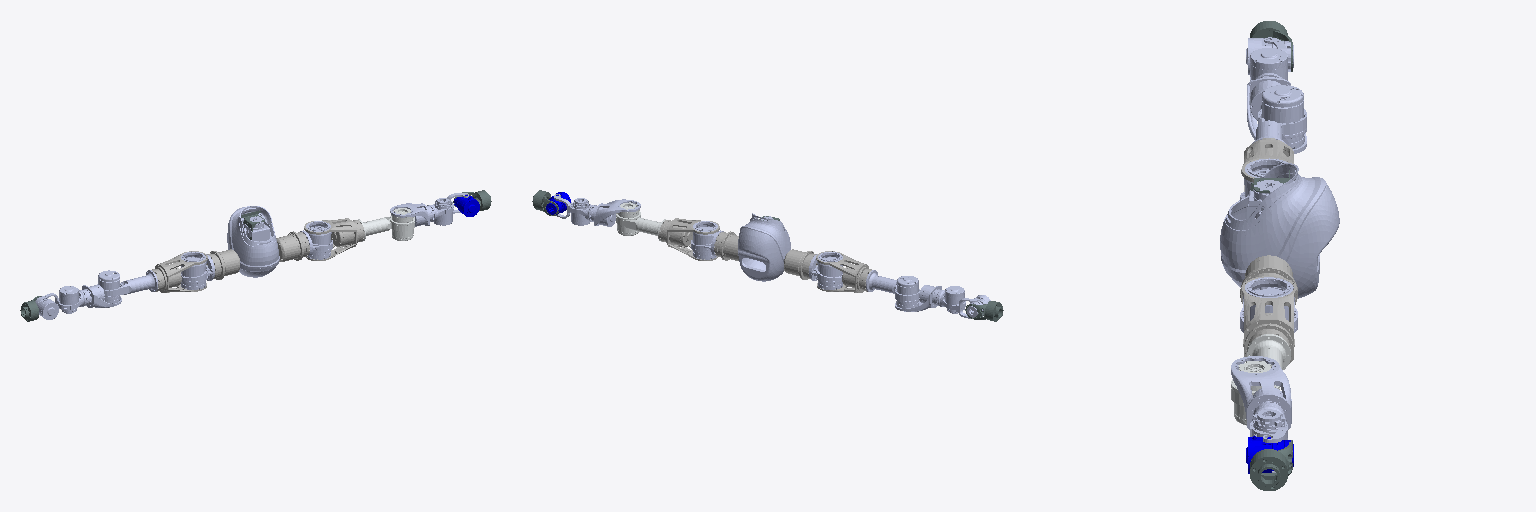
--- Facts derived from the render (not from the file) ---
The picture shows the robot from 3 angles, left to right: view 1: azimuth 30°, elevation 25°; view 2: azimuth 150°, elevation 25°; view 3: azimuth 270°, elevation 25°; orthographic projection.
Robot: double_arm — 19 links, 18 joints (14 revolute, 4 fixed); root link base_link; default pose: every joint at zero.
Links seen in each view (by area): view 1: neck_roll_link, right_arm_link3, left_arm_link2, left_arm_link3, right_arm_link2, right_arm_link1, left_arm_link1, left_arm_link0, right_arm_link5, right_arm_link0, left_arm_link5, left_arm_link4; view 2: neck_roll_link, right_arm_link3, left_arm_link2, right_arm_link2, right_arm_link1, left_arm_link3, left_arm_link1, left_arm_link4, right_arm_link5, right_arm_link0, left_arm_link5, left_arm_link0 (+1 smaller); view 3: neck_roll_link, right_arm_link3, left_arm_link4, left_arm_link2, left_arm_link3, left_arm_link7, right_arm_link5, left_arm_link1, left_arm_link5, right_arm_link2, right_arm_link4, left_arm_link0 (+3 smaller).
Link boxes in pixels (x1,y1,x2,y2): neck_roll_link: (227, 206, 279, 277); right_arm_link3: (97, 270, 157, 303); left_arm_link2: (304, 218, 364, 260); left_arm_link3: (358, 208, 414, 241); right_arm_link2: (152, 251, 207, 292); right_arm_link1: (181, 252, 214, 289); left_arm_link1: (300, 221, 332, 259); left_arm_link0: (276, 231, 309, 261); right_arm_link5: (43, 286, 85, 313); right_arm_link0: (206, 249, 239, 279); left_arm_link5: (427, 193, 468, 225); left_arm_link4: (390, 203, 433, 226); neck_roll_link: (738, 213, 790, 281); right_arm_link3: (866, 270, 919, 308); left_arm_link2: (659, 218, 719, 260); right_arm_link2: (816, 251, 871, 292); right_arm_link1: (809, 252, 842, 289); left_arm_link3: (616, 202, 665, 241); left_arm_link1: (691, 221, 723, 259); left_arm_link4: (590, 199, 640, 226); right_arm_link5: (938, 286, 980, 318); right_arm_link0: (784, 249, 817, 279); left_arm_link5: (554, 194, 596, 225); left_arm_link0: (714, 231, 738, 260); neck_roll_link: (1220, 163, 1339, 298); right_arm_link3: (1252, 85, 1306, 148); left_arm_link4: (1231, 356, 1291, 429); left_arm_link2: (1241, 276, 1296, 363); left_arm_link3: (1231, 334, 1290, 425); left_arm_link7: (1250, 440, 1292, 490); right_arm_link5: (1250, 37, 1287, 80); left_arm_link1: (1240, 277, 1297, 332); left_arm_link5: (1250, 406, 1287, 472); right_arm_link2: (1241, 138, 1293, 191); right_arm_link4: (1247, 76, 1306, 153); left_arm_link0: (1240, 255, 1297, 304).
Bounding box of the posed robot: 1.73 × 0.1982 × 0.2314 m (x, y, z).
Meshes: 19 distinct files referenced, 18 mesh visuals loaded (18 binary STL); not drawn: 1 (reference not matched to a file when rendering).

The robot description file, URDF, robot "double_arm":
<?xml version="1.0" encoding="utf-8"?>
<!-- This URDF was automatically created by SolidWorks to URDF Exporter! Originally created by Stephen Brawner ([email redacted]) 
     Commit Version: 1.6.0-4-g7f85cfe  Build Version: 1.6.7995.38578
     For more information, please see http://wiki.ros.org/sw_urdf_exporter -->
<robot
  name="double_arm">
  <link
    name="base_link">
    <inertial>
      <origin
        xyz="0.0378202497379902 0.00248487961164133 0.235824771434935"
        rpy="0 0 0" />
      <mass
        value="3.26814602021379" />
      <inertia
        ixx="0.0686802700834278"
        ixy="-0.00558757381311196"
        ixz="-0.0124399744728354"
        iyy="0.0942047033211713"
        iyz="-0.00213877089871519"
        izz="0.0683886371186053" />
    </inertial>
    <visual>
      <origin
        xyz="0 0 0"
        rpy="0 0 0" />
      <geometry>
        <mesh
          filename="package://duco_support/meshes/double_arm/base_link.STL" />
      </geometry>
      <material
        name="">
        <color
          rgba="0.792156862745098 0.819607843137255 0.933333333333333 1" />
      </material>
    </visual>
    <collision>
      <origin
        xyz="0 0 0"
        rpy="0 0 0" />
      <geometry>
        <mesh
          filename="package://duco_support/meshes/double_arm/base_link.STL" />
      </geometry>
    </collision>
  </link>
  <link
    name="neck_pitch_link">
    <inertial>
      <origin
        xyz="0.0264425376360982 0.00808473670875362 -0.0133575957764713"
        rpy="0 0 0" />
      <mass
        value="0.0101228976110487" />
      <inertia
        ixx="8.3750097041473E-06"
        ixy="-1.22602867323743E-06"
        ixz="1.81377027364789E-06"
        iyy="7.20989607162345E-06"
        iyz="1.16034623116595E-06"
        izz="8.25180050049213E-06" />
    </inertial>
    <visual>
      <origin
        xyz="0 0 0"
        rpy="0 0 0" />
      <geometry>
        <mesh
          filename="package://duco_support/meshes/double_arm/neck_pitch_link.STL" />
      </geometry>
      <material
        name="">
        <color
          rgba="0.43921568627451 0.501960784313725 0.501960784313725 1" />
      </material>
    </visual>
    <collision>
      <origin
        xyz="0 0 0"
        rpy="0 0 0" />
      <geometry>
        <mesh
          filename="package://duco_support/meshes/double_arm/neck_pitch_link.STL" />
      </geometry>
    </collision>
  </link>
  <joint
    name="neck_pitch"
    type="fixed">
    <origin
      xyz="-0.0285 0.0005 0.387"
      rpy="-1.5708 -1.5667 1.5708" />
    <parent
      link="base_link" />
    <child
      link="neck_pitch_link" />
    <axis
      xyz="0 0 0" />
    <limit
      lower="-3.1416"
      upper="3.1416"
      effort="300"
      velocity="1.7453" />
  </joint>
  <link
    name="neck_roll_link">
    <inertial>
      <origin
        xyz="-0.000868414696194691 0.0181941945111824 0.0876709502607623"
        rpy="0 0 0" />
      <mass
        value="0.481789297187813" />
      <inertia
        ixx="0.00266074015425306"
        ixy="1.93357724778041E-05"
        ixz="-2.42550182009217E-05"
        iyy="0.00230034101054033"
        iyz="0.000440239747889259"
        izz="0.00216216997271251" />
    </inertial>
    <visual>
      <origin
        xyz="0 0 0"
        rpy="0 0 0" />
      <geometry>
        <mesh
          filename="package://duco_support/meshes/double_arm/neck_roll_link.STL" />
      </geometry>
      <material
        name="">
        <color
          rgba="0.792156862745098 0.819607843137255 0.933333333333333 1" />
      </material>
    </visual>
    <collision>
      <origin
        xyz="0 0 0"
        rpy="0 0 0" />
      <geometry>
        <mesh
          filename="package://duco_support/meshes/double_arm/neck_roll_link.STL" />
      </geometry>
    </collision>
  </link>
  <joint
    name="neck_roll"
    type="fixed">
    <origin
      xyz="0.038 0 -0.0285"
      rpy="0 -1.5708 0" />
    <parent
      link="neck_pitch_link" />
    <child
      link="neck_roll_link" />
    <axis
      xyz="0 0 0" />
    <limit
      lower="-3.1416"
      upper="3.1416"
      effort="300"
      velocity="1.7453" />
  </joint>
  <link
    name="left_arm_link0">
    <inertial>
      <origin
        xyz="-4.49663221894266E-05 -2.05935876568253E-06 -0.00772651169223726"
        rpy="0 0 0" />
      <mass
        value="0.429473358917669" />
      <inertia
        ixx="0.00044615691860442"
        ixy="-8.50043240122652E-08"
        ixz="-8.51232041761971E-07"
        iyy="0.000445537823103336"
        iyz="-8.58078002632038E-08"
        izz="0.000368840259750462" />
    </inertial>
    <visual>
      <origin
        xyz="0 0 0"
        rpy="0 0 0" />
      <geometry>
        <mesh
          filename="package://duco_support/meshes/double_arm/left_arm_link0.STL" />
      </geometry>
      <material
        name="">
        <color
          rgba="0.752941176470588 0.752941176470588 0.752941176470588 1" />
      </material>
    </visual>
    <collision>
      <origin
        xyz="0 0 0"
        rpy="0 0 0" />
      <geometry>
        <mesh
          filename="package://duco_support/meshes/double_arm/left_arm_link0.STL" />
      </geometry>
    </collision>
  </link>
  <joint
    name="left_arm_J0"
    type="fixed">
    <origin
      xyz="0.143 0 0.296"
      rpy="1.5708 0 1.5708" />
    <parent
      link="base_link" />
    <child
      link="left_arm_link0" />
    <axis
      xyz="0 0 0" />
  </joint>
  <link
    name="left_arm_link1">
    <inertial>
      <origin
        xyz="4.83035276329282E-05 -0.00461629016521919 -0.00387592390917818"
        rpy="0 0 0" />
      <mass
        value="1.37762980165397" />
      <inertia
        ixx="0.0016977188431714"
        ixy="-4.94570057467487E-06"
        ixz="-4.4748448560165E-06"
        iyy="0.0014896344288354"
        iyz="3.82862045959219E-05"
        izz="0.00156016994943049" />
    </inertial>
    <visual>
      <origin
        xyz="0 0 0"
        rpy="0 0 0" />
      <geometry>
        <mesh
          filename="package://duco_support/meshes/double_arm/left_arm_link1.STL" />
      </geometry>
      <material
        name="">
        <color
          rgba="0.796078431372549 0.823529411764706 0.937254901960784 1" />
      </material>
    </visual>
    <collision>
      <origin
        xyz="0 0 0"
        rpy="0 0 0" />
      <geometry>
        <mesh
          filename="package://duco_support/meshes/double_arm/left_arm_link1.STL" />
      </geometry>
    </collision>
  </link>
  <joint
    name="left_arm_J1"
    type="revolute">
    <origin
      xyz="0 0 0.0897"
      rpy="0 0 0" />
    <parent
      link="left_arm_link0" />
    <child
      link="left_arm_link1" />
    <axis
      xyz="0 0 1" />
    <limit
      lower="-3.1416"
      upper="3.1416"
      effort="300"
      velocity="1.7453" />
  </joint>
  <link
    name="left_arm_link2">
    <inertial>
      <origin
        xyz="-6.13611997681042E-05 0.100524325700007 -0.000555195552561782"
        rpy="0 0 0" />
      <mass
        value="1.1075956211445" />
      <inertia
        ixx="0.00206987964853319"
        ixy="-2.5727561704548E-06"
        ixz="4.05578647073776E-07"
        iyy="0.00119017895465369"
        iyz="-2.49279411483697E-05"
        izz="0.00181064971147027" />
    </inertial>
    <visual>
      <origin
        xyz="0 0 0"
        rpy="0 0 0" />
      <geometry>
        <mesh
          filename="package://duco_support/meshes/double_arm/left_arm_link2.STL" />
      </geometry>
      <material
        name="">
        <color
          rgba="0.752941176470588 0.752941176470588 0.752941176470588 1" />
      </material>
    </visual>
    <collision>
      <origin
        xyz="0 0 0"
        rpy="0 0 0" />
      <geometry>
        <mesh
          filename="package://duco_support/meshes/double_arm/left_arm_link2.STL" />
      </geometry>
    </collision>
  </link>
  <joint
    name="left_arm_J2"
    type="revolute">
    <origin
      xyz="0 0 0"
      rpy="1.5708 0 0" />
    <parent
      link="left_arm_link1" />
    <child
      link="left_arm_link2" />
    <axis
      xyz="0 0 1" />
    <limit
      lower="-3.1416"
      upper="3.1416"
      effort="300"
      velocity="1.7453" />
  </joint>
  <link
    name="left_arm_link3">
    <inertial>
      <origin
        xyz="-0.018911633993998 0.000296691098943369 -0.0142245486290822"
        rpy="0 0 0" />
      <mass
        value="1.07898685239744" />
      <inertia
        ixx="0.0023591957930661"
        ixy="9.6736809145384E-07"
        ixz="0.000297260924663732"
        iyy="0.00227242621553985"
        iyz="-4.83798233930201E-06"
        izz="0.000974554276687362" />
    </inertial>
    <visual>
      <origin
        xyz="0 0 0"
        rpy="0 0 0" />
      <geometry>
        <mesh
          filename="package://duco_support/meshes/double_arm/left_arm_link3.STL" />
      </geometry>
      <material
        name="">
        <color
          rgba="0.898039215686275 0.917647058823529 0.929411764705882 1" />
      </material>
    </visual>
    <collision>
      <origin
        xyz="0 0 0"
        rpy="0 0 0" />
      <geometry>
        <mesh
          filename="package://duco_support/meshes/double_arm/left_arm_link3.STL" />
      </geometry>
    </collision>
  </link>
  <joint
    name="left_arm_J3"
    type="revolute">
    <origin
      xyz="0 0.3005 0"
      rpy="-1.5708 0 0" />
    <parent
      link="left_arm_link2" />
    <child
      link="left_arm_link3" />
    <axis
      xyz="0 0 -1" />
    <limit
      lower="-3.1416"
      upper="3.1416"
      effort="300"
      velocity="1.7453" />
  </joint>
  <link
    name="left_arm_link4">
    <inertial>
      <origin
        xyz="0.0208389992277257 0.0730742315283586 -0.00789651788386114"
        rpy="0 0 0" />
      <mass
        value="0.229809055360262" />
      <inertia
        ixx="0.000279518891441388"
        ixy="-2.33266154163524E-05"
        ixz="-1.71930869358015E-05"
        iyy="0.000193356671709157"
        iyz="-7.04131247181475E-05"
        izz="0.000276692641160306" />
    </inertial>
    <visual>
      <origin
        xyz="0 0 0"
        rpy="0 0 0" />
      <geometry>
        <mesh
          filename="package://duco_support/meshes/double_arm/left_arm_link4.STL" />
      </geometry>
      <material
        name="">
        <color
          rgba="0.792156862745098 0.819607843137255 0.933333333333333 1" />
      </material>
    </visual>
    <collision>
      <origin
        xyz="0 0 0"
        rpy="0 0 0" />
      <geometry>
        <mesh
          filename="package://duco_support/meshes/double_arm/left_arm_link4.STL" />
      </geometry>
    </collision>
  </link>
  <joint
    name="left_arm_J4"
    type="revolute">
    <origin
      xyz="-0.0225 0 0"
      rpy="1.5708 0 0" />
    <parent
      link="left_arm_link3" />
    <child
      link="left_arm_link4" />
    <axis
      xyz="0 0 1" />
    <limit
      lower="-3.1416"
      upper="3.1416"
      effort="300"
      velocity="1.7453" />
  </joint>
  <link
    name="left_arm_link5">
    <inertial>
      <origin
        xyz="0.00148159672131504 -0.00328676794112681 -0.0850235099273732"
        rpy="0 0 0" />
      <mass
        value="0.2095145401104" />
      <inertia
        ixx="0.000194078608252324"
        ixy="-2.46700631773096E-06"
        ixz="-1.38013294410615E-05"
        iyy="0.000169842954409334"
        iyz="-1.05018782644311E-05"
        izz="0.000129153246030747" />
    </inertial>
    <visual>
      <origin
        xyz="0 0 0"
        rpy="0 0 0" />
      <geometry>
        <mesh
          filename="package://duco_support/meshes/double_arm/left_arm_link5.STL" />
      </geometry>
      <material
        name="">
        <color
          rgba="0.792156862745098 0.819607843137255 0.933333333333333 1" />
      </material>
    </visual>
    <collision>
      <origin
        xyz="0 0 0"
        rpy="0 0 0" />
      <geometry>
        <mesh
          filename="package://duco_support/meshes/double_arm/left_arm_link5.STL" />
      </geometry>
    </collision>
  </link>
  <joint
    name="left_arm_J5"
    type="revolute">
    <origin
      xyz="0.0225 0.25 0"
      rpy="-1.5708 0 0" />
    <parent
      link="left_arm_link4" />
    <child
      link="left_arm_link5" />
    <axis
      xyz="0 0 1" />
    <limit
      lower="-3.1416"
      upper="3.1416"
      effort="300"
      velocity="1.7453" />
  </joint>
  <link
    name="left_arm_link6">
    <inertial>
      <origin
        xyz="-3.17973833828811E-05 -0.000510250008096734 -7.98321817644387E-05"
        rpy="0 0 0" />
      <mass
        value="0.157452997694605" />
      <inertia
        ixx="8.76692567231686E-05"
        ixy="1.3184727951352E-07"
        ixz="-2.42911944943532E-08"
        iyy="6.53234875819123E-05"
        iyz="1.38683624781029E-07"
        izz="9.09421100990473E-05" />
    </inertial>
    <visual>
      <origin
        xyz="0 0 0"
        rpy="0 0 0" />
      <geometry>
        <mesh
          filename="package://duco_support/meshes/double_arm/left_arm_link6.STL" />
      </geometry>
      <material
        name="">
        <color
          rgba="0 0 1 1" />
      </material>
    </visual>
    <collision>
      <origin
        xyz="0 0 0"
        rpy="0 0 0" />
      <geometry>
        <mesh
          filename="package://duco_support/meshes/double_arm/left_arm_link6.STL" />
      </geometry>
    </collision>
  </link>
  <joint
    name="left_arm_J6"
    type="revolute">
    <origin
      xyz="0 0 0"
      rpy="1.5708 -1.5708 0" />
    <parent
      link="left_arm_link5" />
    <child
      link="left_arm_link6" />
    <axis
      xyz="0 0 -1" />
    <limit
      lower="-3.1416"
      upper="3.1416"
      effort="300"
      velocity="1.7453" />
  </joint>
  <link
    name="left_arm_link7">
    <inertial>
      <origin
        xyz="0.0525955873709749 9.54054269169946E-05 0.00541833613104666"
        rpy="0 0 0" />
      <mass
        value="0.157621885180453" />
      <inertia
        ixx="0.000111322740938638"
        ixy="4.41001105077036E-09"
        ixz="1.37632433124292E-05"
        iyy="8.23830403703832E-05"
        iyz="-2.16413703694605E-07"
        izz="7.62644977217794E-05" />
    </inertial>
    <visual>
      <origin
        xyz="0 0 0"
        rpy="0 0 0" />
      <geometry>
        <mesh
          filename="package://duco_support/meshes/double_arm/left_arm_link7.STL" />
      </geometry>
      <material
        name="">
        <color
          rgba="0.43921568627451 0.501960784313725 0.501960784313725 1" />
      </material>
    </visual>
    <collision>
      <origin
        xyz="0 0 0"
        rpy="0 0 0" />
      <geometry>
        <mesh
          filename="package://duco_support/meshes/double_arm/left_arm_link7.STL" />
      </geometry>
    </collision>
  </link>
  <joint
    name="left_arm_J7"
    type="revolute">
    <origin
      xyz="0 0 0"
      rpy="1.5708 0 0" />
    <parent
      link="left_arm_link6" />
    <child
      link="left_arm_link7" />
    <axis
      xyz="0 0 -1" />
    <limit
      lower="-3.1416"
      upper="3.1416"
      effort="300"
      velocity="1.7453" />
  </joint>
  <link
    name="right_arm_link0">
    <inertial>
      <origin
        xyz="-4.49644073452025E-05 -2.05780637008157E-06 -0.00772650845468376"
        rpy="0 0 0" />
      <mass
        value="0.429473325876526" />
      <inertia
        ixx="0.000446156842871368"
        ixy="-8.49869634007724E-08"
        ixz="-8.51194933230475E-07"
        iyy="0.000445537740229448"
        iyz="-8.57776886586398E-08"
        izz="0.000368840224895942" />
    </inertial>
    <visual>
      <origin
        xyz="0 0 0"
        rpy="0 0 0" />
      <geometry>
        <mesh
          filename="package://duco_support/meshes/double_arm/right_arm_link0.STL" />
      </geometry>
      <material
        name="">
        <color
          rgba="0.752941176470588 0.752941176470588 0.752941176470588 1" />
      </material>
    </visual>
    <collision>
      <origin
        xyz="0 0 0"
        rpy="0 0 0" />
      <geometry>
        <mesh
          filename="package://duco_support/meshes/double_arm/right_arm_link0.STL" />
      </geometry>
    </collision>
  </link>
  <joint
    name="right_arm_J0"
    type="fixed">
    <origin
      xyz="-0.143 0 0.296"
      rpy="1.5708 0 -1.5708" />
    <parent
      link="base_link" />
    <child
      link="right_arm_link0" />
    <axis
      xyz="0 0 0" />
  </joint>
  <link
    name="right_arm_link1">
    <inertial>
      <origin
        xyz="4.83035276329768E-05 -0.00461629016521914 -0.00387592390917813"
        rpy="0 0 0" />
      <mass
        value="0.510233259871843" />
      <inertia
        ixx="0.000628784756730148"
        ixy="-1.83174095358344E-06"
        ixz="-1.65734994667268E-06"
        iyy="0.000551716455124223"
        iyz="1.41800757762675E-05"
        izz="0.000577840722011292" />
    </inertial>
    <visual>
      <origin
        xyz="0 0 0"
        rpy="0 0 0" />
      <geometry>
        <mesh
          filename="package://duco_support/meshes/double_arm/right_arm_link1.STL" />
      </geometry>
      <material
        name="">
        <color
          rgba="0.792156862745098 0.819607843137255 0.933333333333333 1" />
      </material>
    </visual>
    <collision>
      <origin
        xyz="0 0 0"
        rpy="0 0 0" />
      <geometry>
        <mesh
          filename="package://duco_support/meshes/double_arm/right_arm_link1.STL" />
      </geometry>
    </collision>
  </link>
  <joint
    name="right_arm_J1"
    type="revolute">
    <origin
      xyz="0 0 0.0897"
      rpy="0 0 0" />
    <parent
      link="right_arm_link0" />
    <child
      link="right_arm_link1" />
    <axis
      xyz="0 0 -1" />
    <limit
      lower="-3.1416"
      upper="3.1416"
      effort="300"
      velocity="1.7453" />
  </joint>
  <link
    name="right_arm_link2">
    <inertial>
      <origin
        xyz="-6.13611222286328E-05 0.100524325686774 -0.000555195530869801"
        rpy="0 0 0" />
      <mass
        value="1.10759562151248" />
      <inertia
        ixx="0.00206987964892811"
        ixy="-2.57275650029226E-06"
        ixz="4.05578643405701E-07"
        iyy="0.00119017895541491"
        iyz="-2.49279411434746E-05"
        izz="0.00181064971074143" />
    </inertial>
    <visual>
      <origin
        xyz="0 0 0"
        rpy="0 0 0" />
      <geometry>
        <mesh
          filename="package://duco_support/meshes/double_arm/right_arm_link2.STL" />
      </geometry>
      <material
        name="">
        <color
          rgba="0.752941176470588 0.752941176470588 0.752941176470588 1" />
      </material>
    </visual>
    <collision>
      <origin
        xyz="0 0 0"
        rpy="0 0 0" />
      <geometry>
        <mesh
          filename="package://duco_support/meshes/double_arm/right_arm_link2.STL" />
      </geometry>
    </collision>
  </link>
  <joint
    name="right_arm_J2"
    type="revolute">
    <origin
      xyz="0 0 0"
      rpy="1.5708 0 0" />
    <parent
      link="right_arm_link1" />
    <child
      link="right_arm_link2" />
    <axis
      xyz="0 0 1" />
    <limit
      lower="-3.1416"
      upper="3.1416"
      effort="300"
      velocity="1.7453" />
  </joint>
  <link
    name="right_arm_link3">
    <inertial>
      <origin
        xyz="-0.0188034164202653 -0.00113806163829183 -0.0144875281301353"
        rpy="0 0 0" />
      <mass
        value="0.390738219005927" />
      <inertia
        ixx="0.000835408137245896"
        ixy="-3.2651861787711E-06"
        ixz="0.00010908994856849"
        iyy="0.000833488874128403"
        iyz="1.29633969952862E-05"
        izz="0.000325975358183885" />
    </inertial>
    <visual>
      <origin
        xyz="0 0 0"
        rpy="0 0 0" />
      <geometry>
        <mesh
          filename="package://duco_support/meshes/double_arm/right_arm_link3.STL" />
      </geometry>
      <material
        name="">
        <color
          rgba="0.792156862745098 0.819607843137255 0.933333333333333 1" />
      </material>
    </visual>
    <collision>
      <origin
        xyz="0 0 0"
        rpy="0 0 0" />
      <geometry>
        <mesh
          filename="package://duco_support/meshes/double_arm/right_arm_link3.STL" />
      </geometry>
    </collision>
  </link>
  <joint
    name="right_arm_J3"
    type="revolute">
    <origin
      xyz="0 0.3005 0"
      rpy="-1.5708 0 0" />
    <parent
      link="right_arm_link2" />
    <child
      link="right_arm_link3" />
    <axis
      xyz="0 0 -1" />
    <limit
      lower="-3.1416"
      upper="3.1416"
      effort="300"
      velocity="1.7453" />
  </joint>
  <link
    name="right_arm_link4">
    <inertial>
      <origin
        xyz="0.0207462175228632 0.0730757838138242 0.00789254529456673"
        rpy="0 0 0" />
      <mass
        value="0.229813521726857" />
      <inertia
        ixx="0.000279491178108515"
        ixy="-2.37794886938613E-05"
        ixz="1.71400031327494E-05"
        iyy="0.000193281905668606"
        iyz="7.04035924752123E-05"
        izz="0.000276590330064731" />
    </inertial>
    <visual>
      <origin
        xyz="0 0 0"
        rpy="0 0 0" />
      <geometry>
        <mesh
          filename="package://duco_support/meshes/double_arm/right_arm_link4.STL" />
      </geometry>
      <material
        name="">
        <color
          rgba="0.792156862745098 0.819607843137255 0.933333333333333 1" />
      </material>
    </visual>
    <collision>
      <origin
        xyz="0 0 0"
        rpy="0 0 0" />
      <geometry>
        <mesh
          filename="package://duco_support/meshes/double_arm/right_arm_link4.STL" />
      </geometry>
    </collision>
  </link>
  <joint
    name="right_arm_J4"
    type="revolute">
    <origin
      xyz="-0.0225 0 0"
      rpy="1.5708 0 0" />
    <parent
      link="right_arm_link3" />
    <child
      link="right_arm_link4" />
    <axis
      xyz="0 0 -1" />
    <limit
      lower="-3.1416"
      upper="3.1416"
      effort="300"
      velocity="1.7453" />
  </joint>
  <link
    name="right_arm_link5">
    <inertial>
      <origin
        xyz="-0.00144109942633979 0.00338133753341241 -0.0852537713058311"
        rpy="0 0 0" />
      <mass
        value="0.208873354359598" />
      <inertia
        ixx="0.000189692532027574"
        ixy="-2.18667657578522E-06"
        ixz="1.31418056416785E-05"
        iyy="0.000165881638570448"
        iyz="8.98869330968672E-06"
        izz="0.000128339886366414" />
    </inertial>
    <visual>
      <origin
        xyz="0 0 0"
        rpy="0 0 0" />
      <geometry>
        <mesh
          filename="package://duco_support/meshes/double_arm/right_arm_link5.STL" />
      </geometry>
      <material
        name="">
        <color
          rgba="0.792156862745098 0.819607843137255 0.933333333333333 1" />
      </material>
    </visual>
    <collision>
      <origin
        xyz="0 0 0"
        rpy="0 0 0" />
      <geometry>
        <mesh
          filename="package://duco_support/meshes/double_arm/right_arm_link5.STL" />
      </geometry>
    </collision>
  </link>
  <joint
    name="right_arm_J5"
    type="revolute">
    <origin
      xyz="0.0225 0.25 0"
      rpy="-1.5708 0 0" />
    <parent
      link="right_arm_link4" />
    <child
      link="right_arm_link5" />
    <axis
      xyz="0 0 -1" />
    <limit
      lower="-3.1416"
      upper="3.1416"
      effort="300"
      velocity="1.7453" />
  </joint>
  <link
    name="right_arm_link6">
    <inertial>
      <origin
        xyz="-3.17973742574029E-05 0.000510249988058209 0.00107983216296176"
        rpy="0 0 0" />
      <mass
        value="0.157452997493096" />
      <inertia
        ixx="8.76692566244096E-05"
        ixy="-1.31847303472727E-07"
        ixz="2.42911717377624E-08"
        iyy="6.5323487525043E-05"
        iyz="1.38683674159897E-07"
        izz="9.09421100358791E-05" />
    </inertial>
    <visual>
      <origin
        xyz="0 0 0"
        rpy="0 0 0" />
      <geometry>
        <mesh
          filename="package://duco_support/meshes/double_arm/right_arm_link6.STL" />
      </geometry>
      <material
        name="">
        <color
          rgba="0.792156862745098 0.819607843137255 0.933333333333333 1" />
      </material>
    </visual>
    <collision>
      <origin
        xyz="0 0 0"
        rpy="0 0 0" />
      <geometry>
        <mesh
          filename="package://duco_support/meshes/double_arm/right_arm_link6.STL" />
      </geometry>
    </collision>
  </link>
  <joint
    name="right_arm_J6"
    type="revolute">
    <origin
      xyz="0 0 0"
      rpy="1.5708 -1.5708 0" />
    <parent
      link="right_arm_link5" />
    <child
      link="right_arm_link6" />
    <axis
      xyz="0 0 1" />
    <limit
      lower="-3.1416"
      upper="3.1416"
      effort="300"
      velocity="1.7453" />
  </joint>
  <link
    name="right_arm_link7">
    <inertial>
      <origin
        xyz="0.0525955966355082 0.000904600106993225 -0.0054183235413045"
        rpy="0 0 0" />
      <mass
        value="0.157621813942239" />
      <inertia
        ixx="0.000111322727384927"
        ixy="-4.40694645075752E-09"
        ixz="-1.37632376674442E-05"
        iyy="8.2383001794795E-05"
        iyz="-2.16395257823518E-07"
        izz="7.62645161164362E-05" />
    </inertial>
    <visual>
      <origin
        xyz="0 0 0"
        rpy="0 0 0" />
      <geometry>
        <mesh
          filename="package://duco_support/meshes/double_arm/right_arm_link7.STL" />
      </geometry>
      <material
        name="">
        <color
          rgba="0.43921568627451 0.501960784313725 0.501960784313725 1" />
      </material>
    </visual>
    <collision>
      <origin
        xyz="0 0 0"
        rpy="0 0 0" />
      <geometry>
        <mesh
          filename="package://duco_support/meshes/double_arm/right_arm_link7.STL" />
      </geometry>
    </collision>
  </link>
  <joint
    name="right_arm_J7"
    type="revolute">
    <origin
      xyz="0 0 0"
      rpy="1.5708 0 0" />
    <parent
      link="right_arm_link6" />
    <child
      link="right_arm_link7" />
    <axis
      xyz="0 0 -1" />
    <limit
      lower="-3.1416"
      upper="3.1416"
      effort="300"
      velocity="1.7453" />
  </joint>
</robot>
